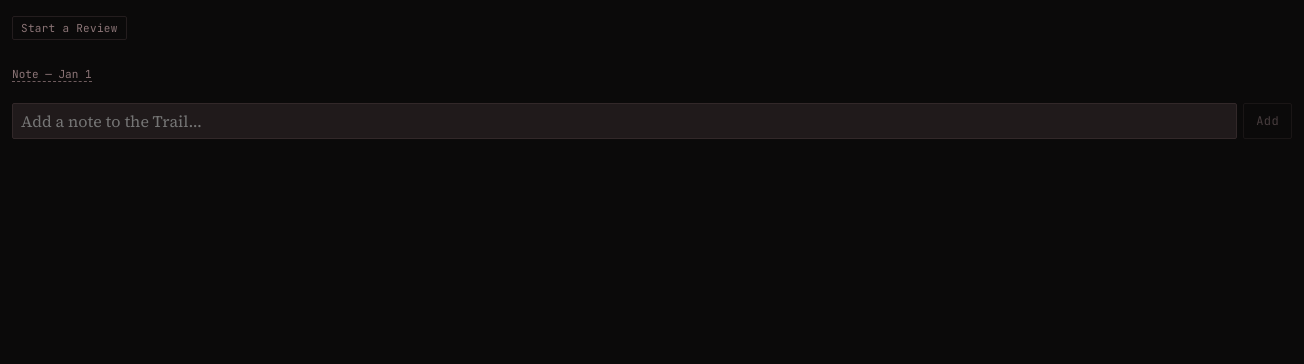
TrailSpine: real Trail entries › still expands a Trail entry and offers Rewind
The image size is (1304, 364).
Click the text "Note — Jan 1" at [52, 74], box [12,67,92,82]
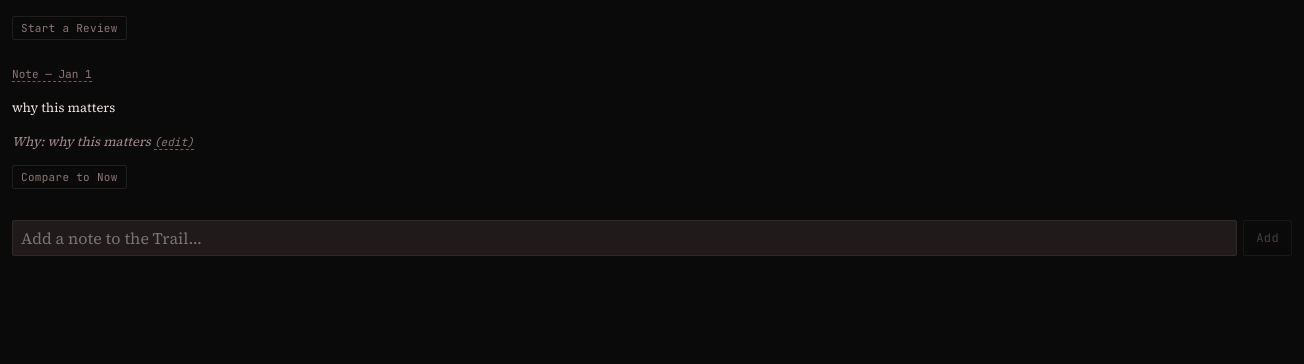
Click the button "Compare to Now" at [69, 177], box [12,165,127,189]
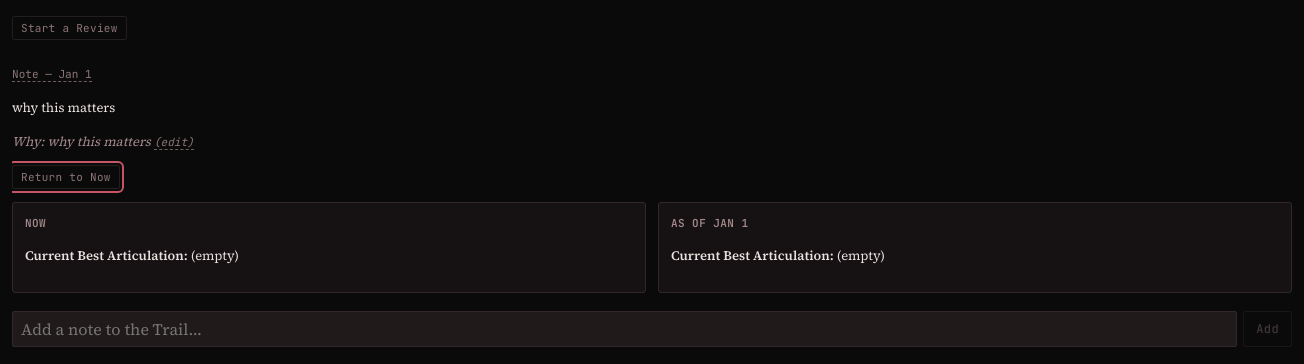
expect the button "Return to Now" is shown: met, box [12,165,120,189]
